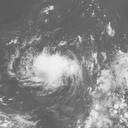cyclone: (18, 47, 85, 93)
